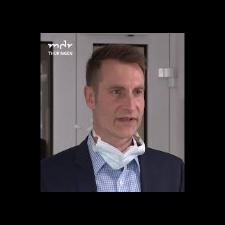mask_weared_incorrect: (102, 75, 145, 160)
